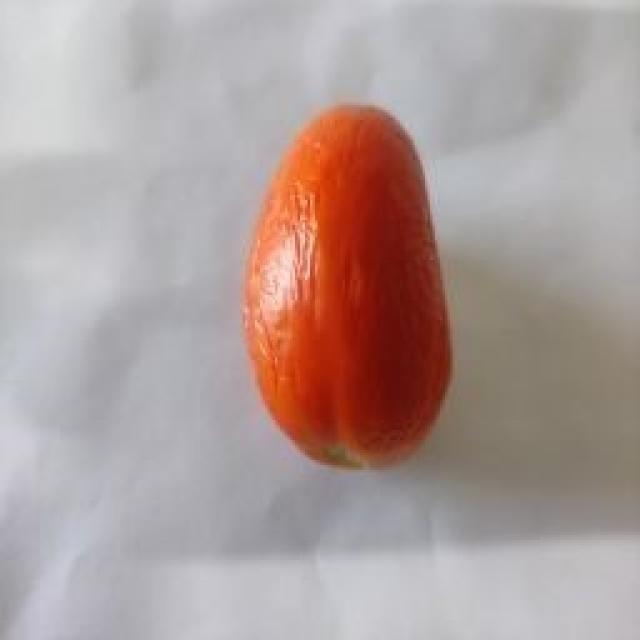overripe: (239, 104, 461, 473)
